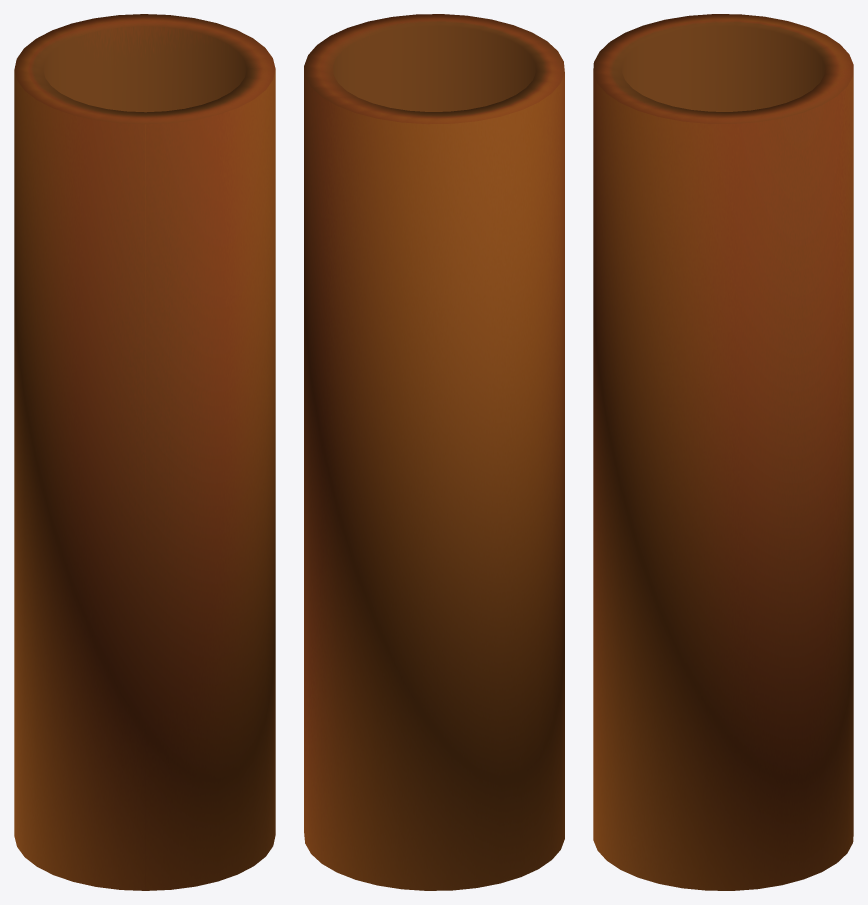
File: Umbrellastand.fbx
3 renders of one model, left to right at view 1: azimuth 30°, elevation 25°; view 2: azimuth 150°, elevation 25°; view 3: azimuth 270°, elevation 25°, orthographic.
Visible parts, largest first — view 1: Cylinder.024_Cylinder.001; view 2: Cylinder.024_Cylinder.001; view 3: Cylinder.024_Cylinder.001.
Boxes of the visible parts, left/top/right/bottom form: Cylinder.024_Cylinder.001: left=14, top=14, right=275, bottom=890; Cylinder.024_Cylinder.001: left=304, top=14, right=564, bottom=890; Cylinder.024_Cylinder.001: left=593, top=14, right=853, bottom=890.
Size of the model in its own units: 47.42 by 154 by 47.42.
